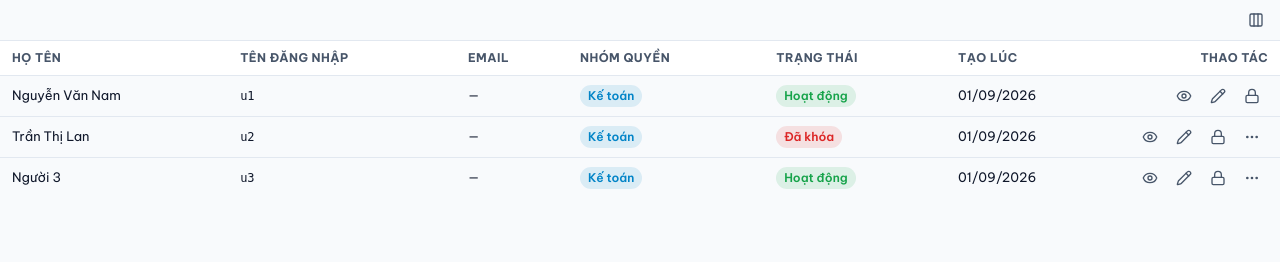
Test case: UsersTable › tài khoản của chính mình: KHÔNG có 'Cấp lại mật khẩu', có lối tới /change-password; người khác vẫn có
Expected: the button "Cấp lại mật khẩu" is not shown
What coordinates should you click on to do the following:
click the button named "Thêm thao tác" in the row of "Người 3"
I would click on:
 (1252, 178)
Its box is [1236, 162, 1268, 194].
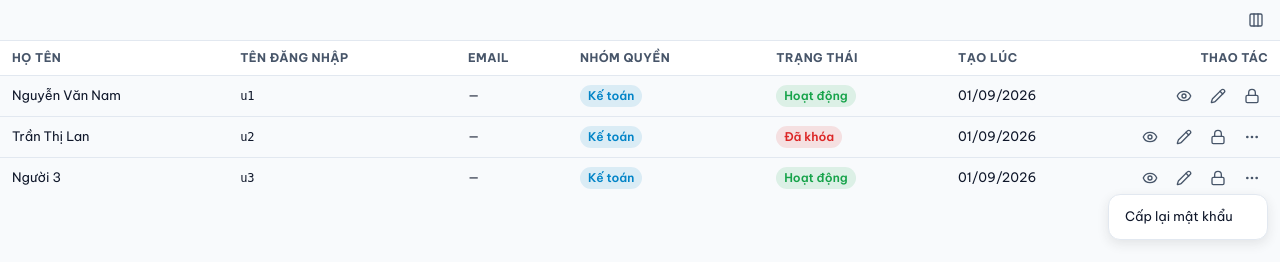
Expected: the menu item "Cấp lại mật khẩu" is shown, [1125, 208, 1233, 224]
